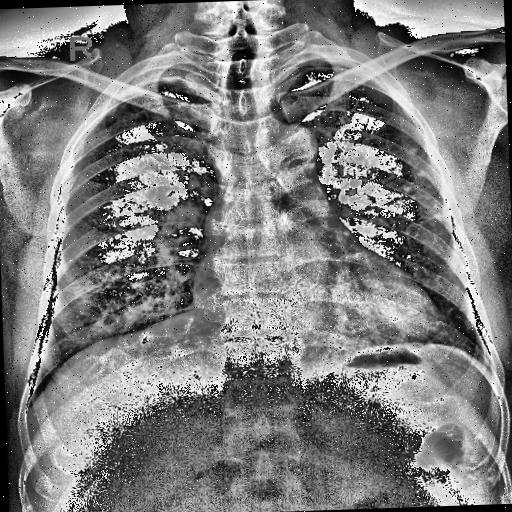0- Aortic enlargement: (266, 108, 333, 184)
11- Pleural thickening: (122, 56, 204, 102)
13- Pulmonary fibrosis: (81, 260, 187, 348), (369, 140, 450, 238)
2- Calcification: (369, 140, 450, 238), (391, 144, 442, 226)
3- Cardiomegaly: (185, 240, 462, 380), (171, 237, 458, 368)
5- ILD: (43, 70, 228, 390), (286, 87, 478, 375), (22, 167, 195, 362), (342, 224, 494, 374)
8- Nodule-Mass: (381, 134, 438, 218)
